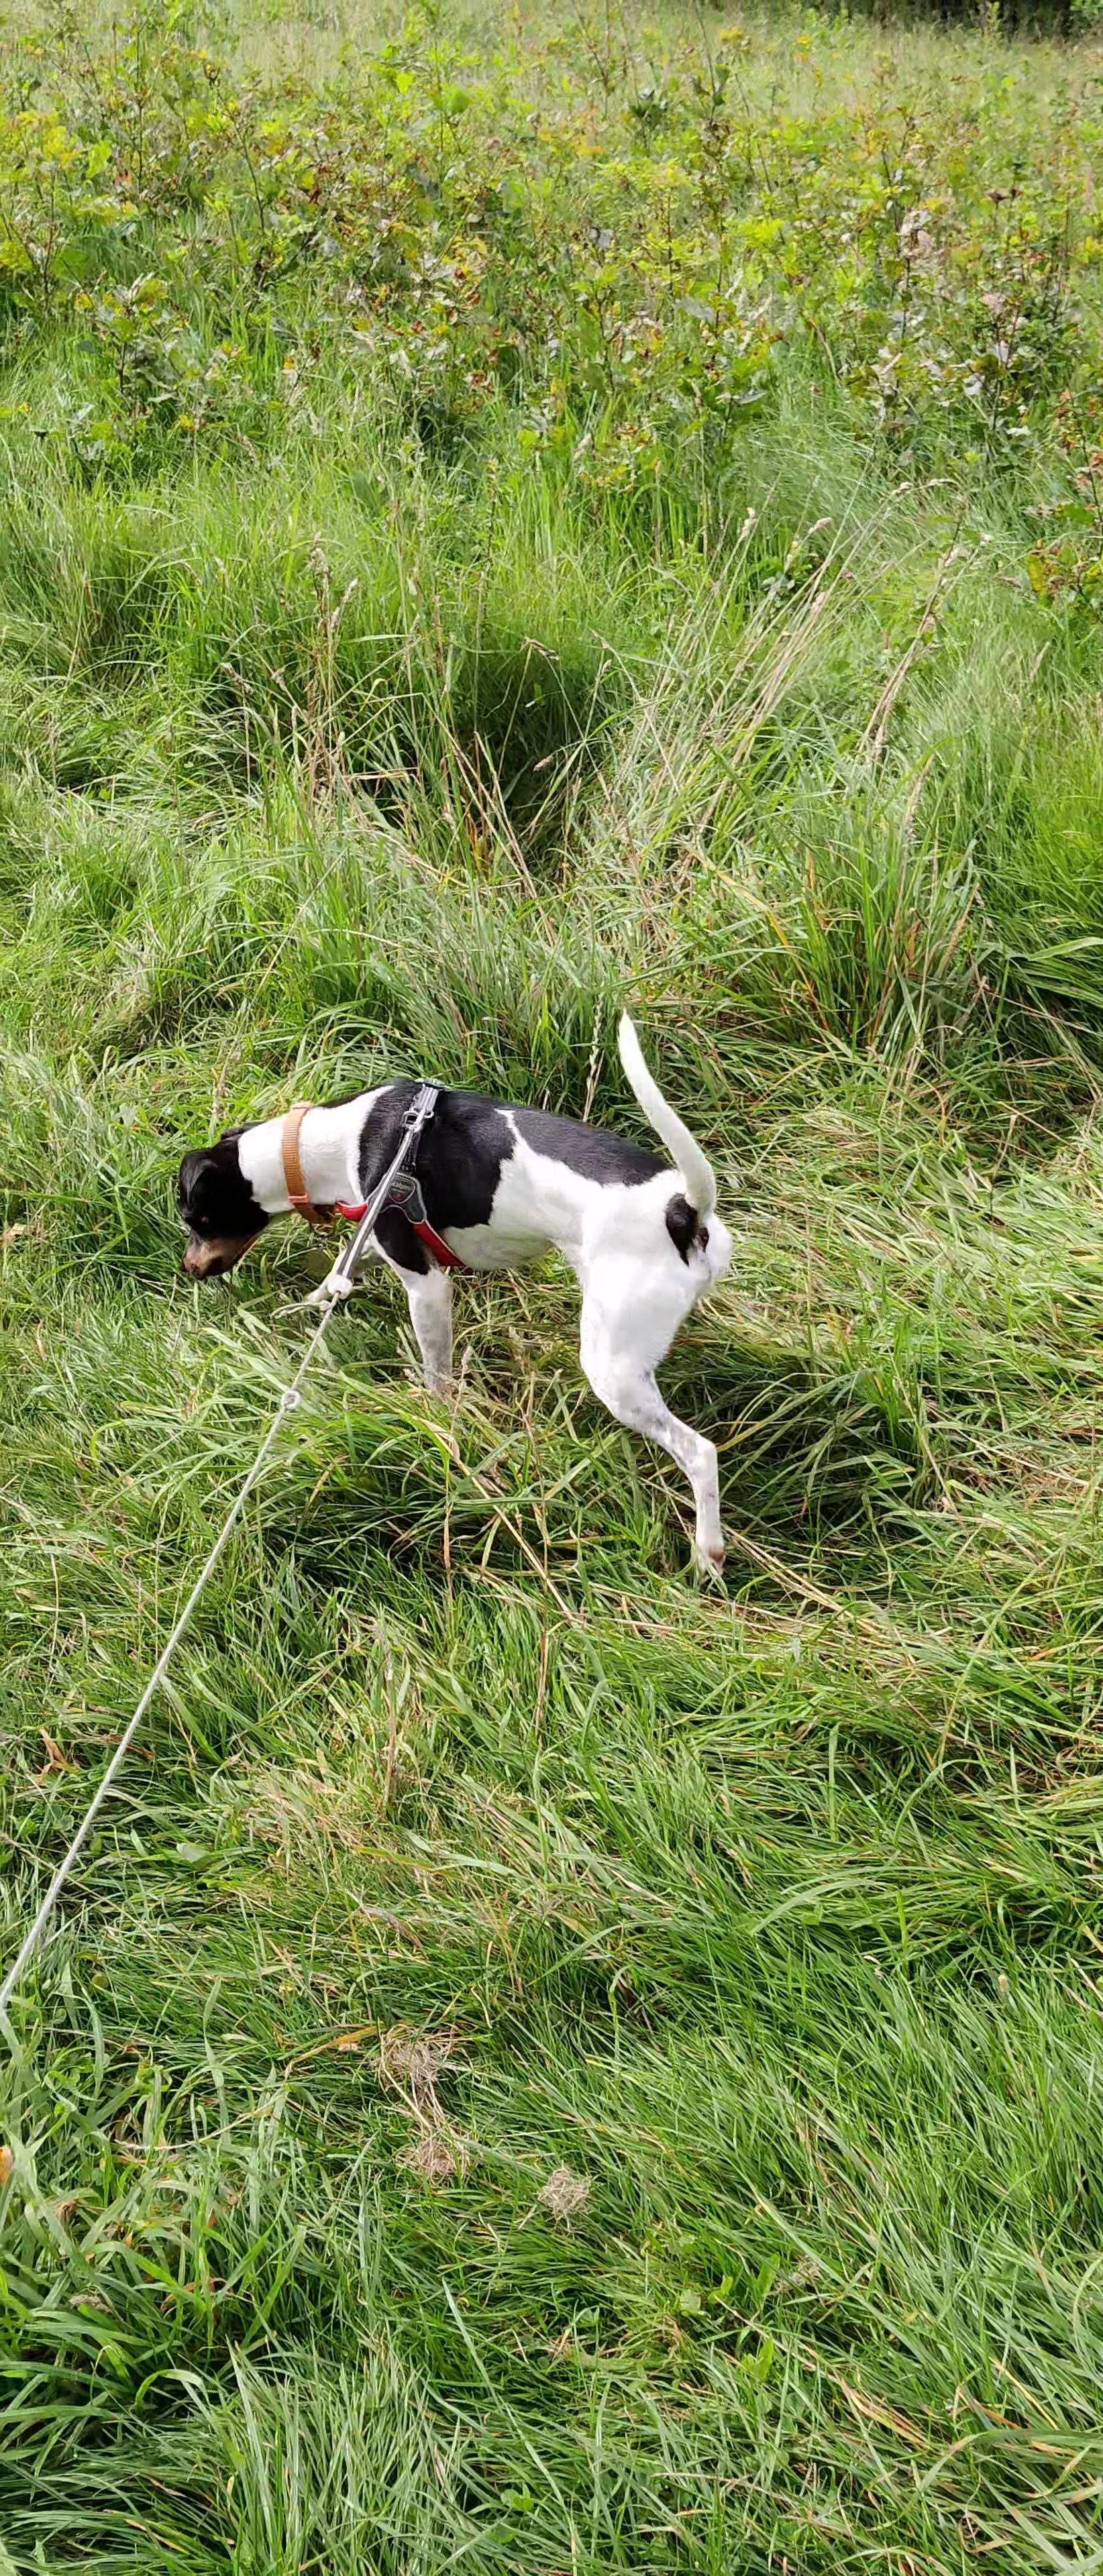Dog: (168, 1002, 748, 1595)
